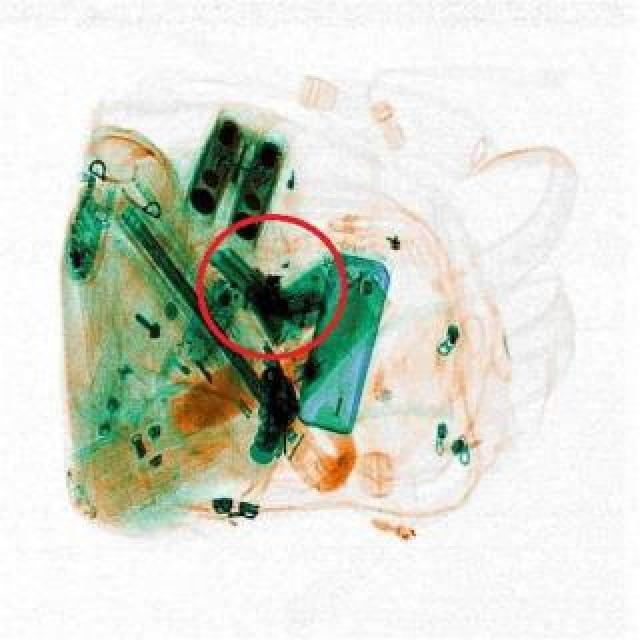gun: (198, 242, 326, 348)
